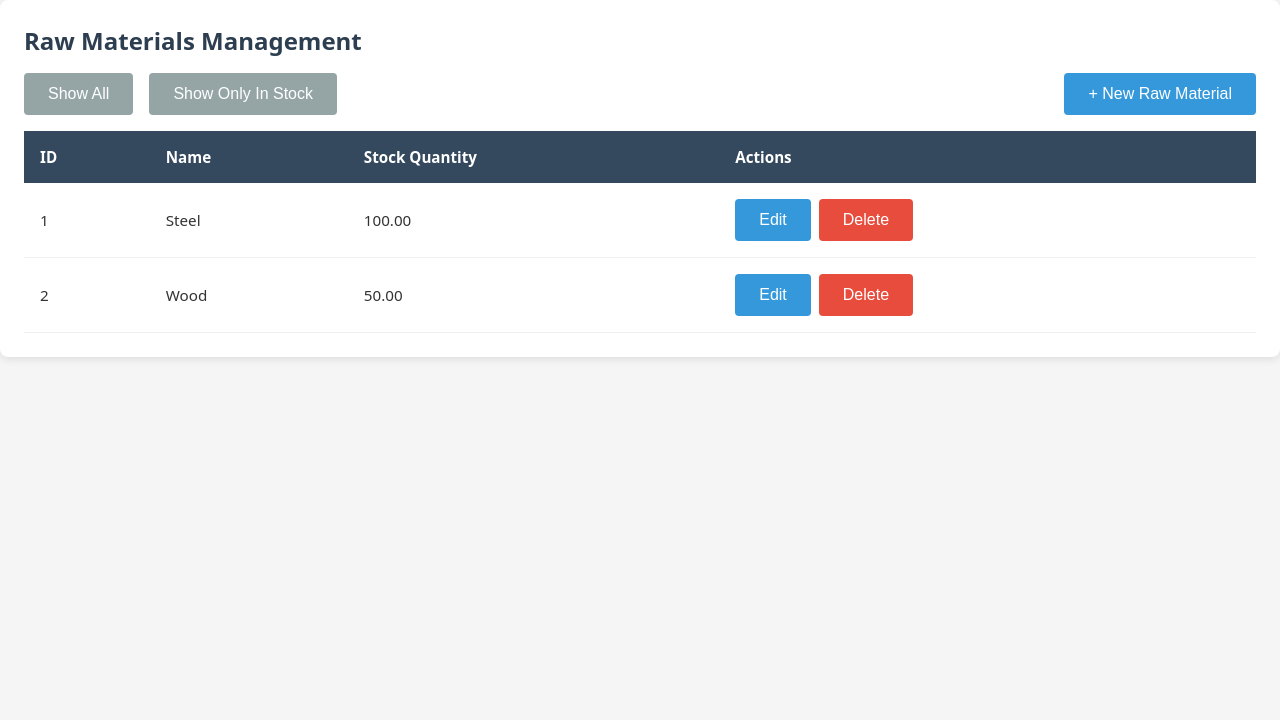
Test case: RawMaterialsPage › opens form when new raw material button is clicked
Click the button "+ New Raw Material". click: (1160, 94)
box: [1064,73,1256,115]
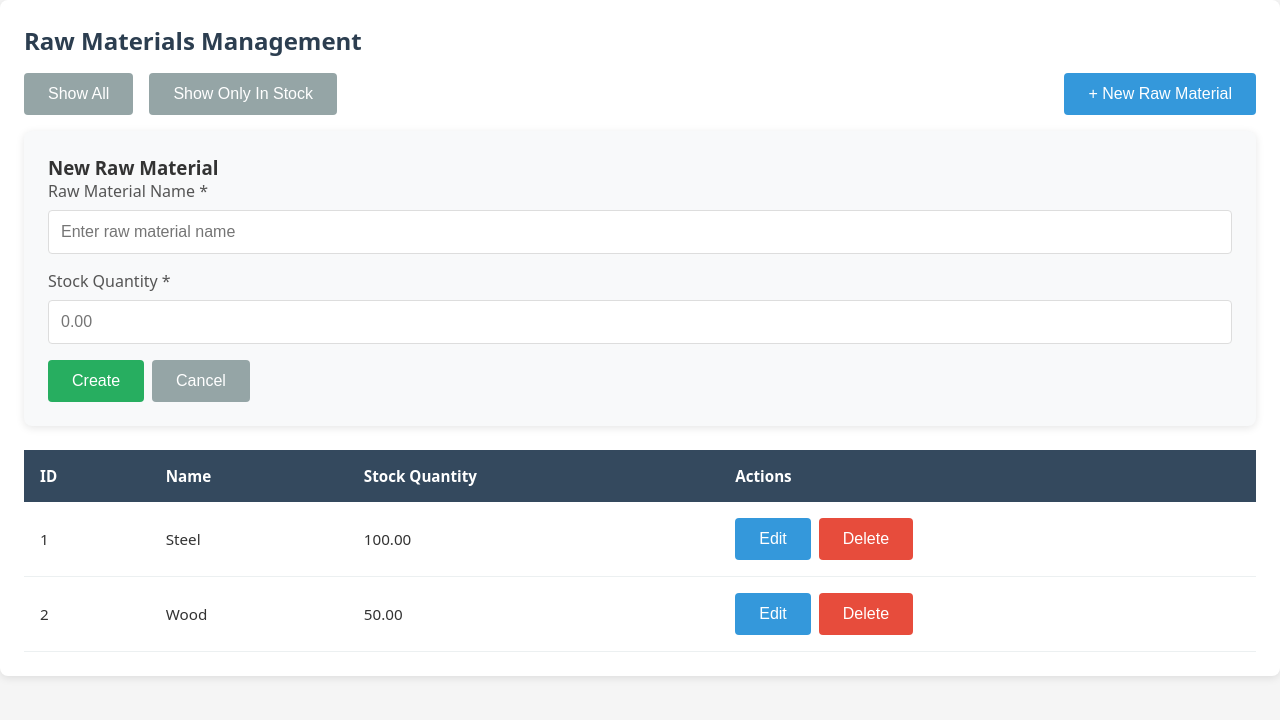
expect the heading "New Raw Material" is shown: met, box [48,155,219,180]
